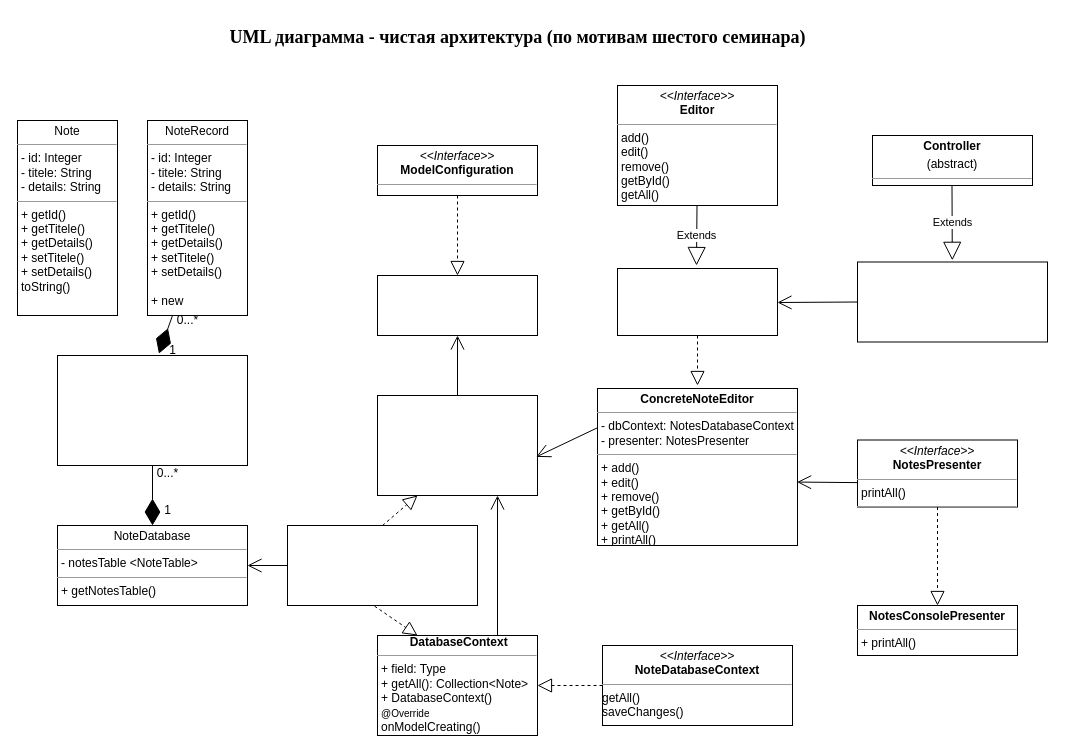
This 1065x753 diagram has some shape labels left out. The box of each missing label's shape, as (x1, y1, x2, y2) in pixels:
<<Interface>> Database: (286, 524, 478, 606)
<<Interface>> NoteEditor printAll(): (616, 268, 778, 336)
DbContext - database: Database + DbContext() + SaveChanges() - onModelCreating(): (376, 394, 538, 496)
ModelBuilder + applyConfiguration(): (376, 274, 538, 336)
NotesController - noteEditor: NoteEditor + routeGetAll(): (856, 261, 1048, 342)
NoteTable - records: Collection<NoteRecord> + getRecords() - prepareRecords(): (56, 354, 248, 466)
